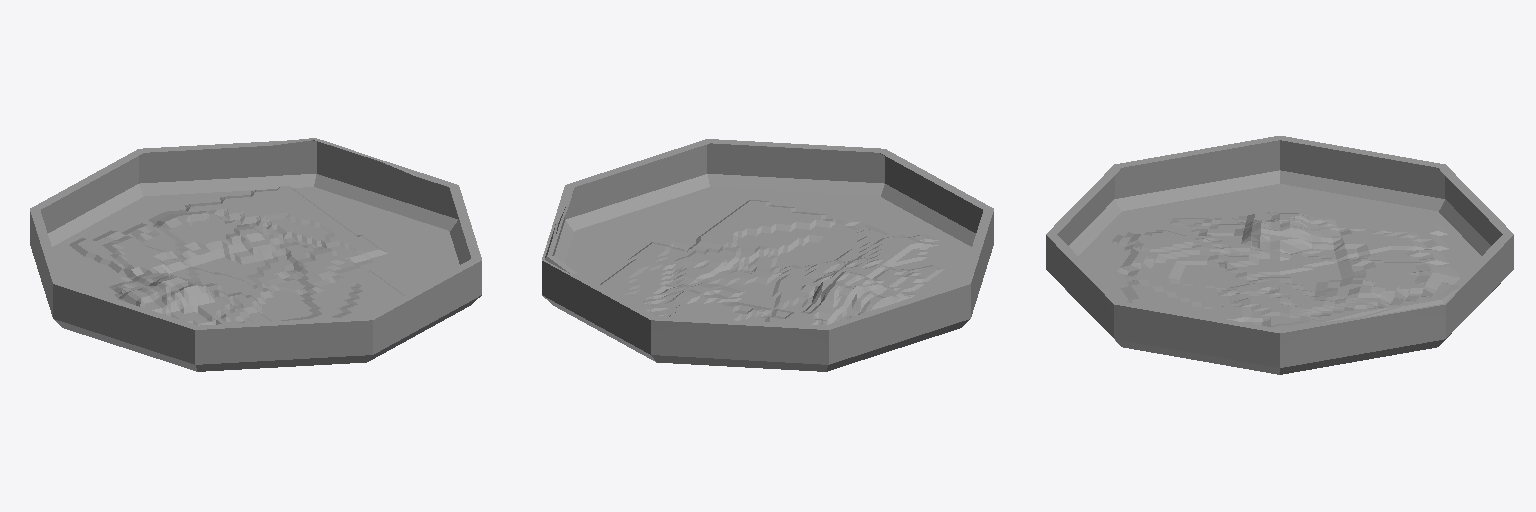
File: arena9.obj
The picture shows the model from 3 angles: view 1: azimuth 30°, elevation 25°; view 2: azimuth 150°, elevation 25°; view 3: azimuth 270°, elevation 25°; orthographic projection.
Visible parts, largest first — view 1: Mesh; view 2: Mesh; view 3: Mesh.
Boxes of the visible parts, x1=… form: Mesh: x1=30, y1=138, x2=481, y2=371; Mesh: x1=542, y1=139, x2=993, y2=371; Mesh: x1=1046, y1=136, x2=1513, y2=374.
Size of the model in its own units: 14.15 by 1.65 by 14.15.